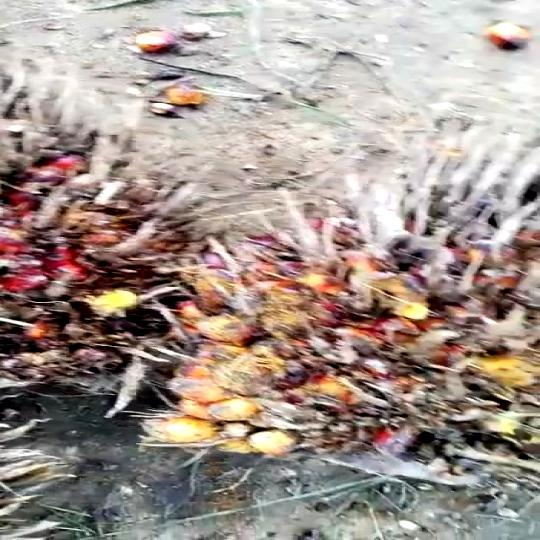terlalu masak: (119, 133, 540, 506)
